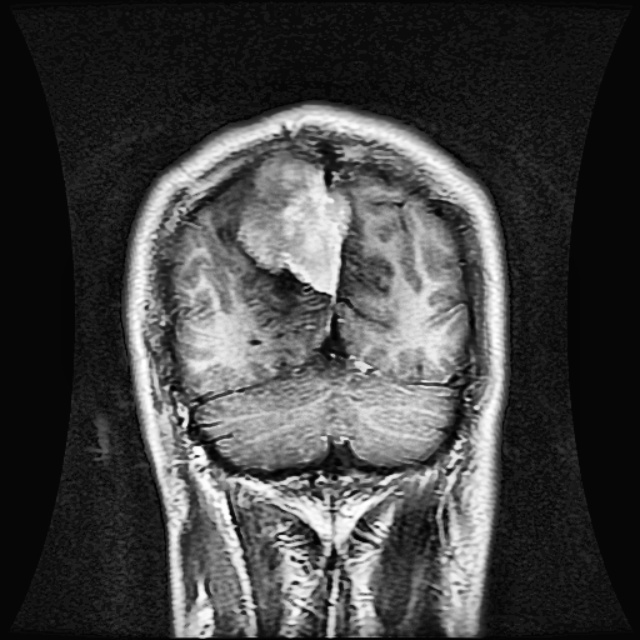Glioma: (240, 154, 352, 293)
